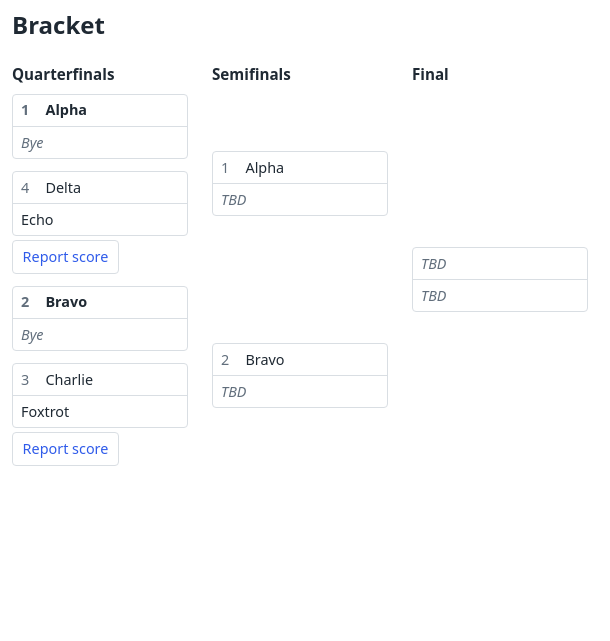
Test: ManageBracket › reports a score with the organizer token and shows the winner advancing
Click the button with aria-label "Report score: Delta vs Echo": (66, 257) 12,240 -> 119,274
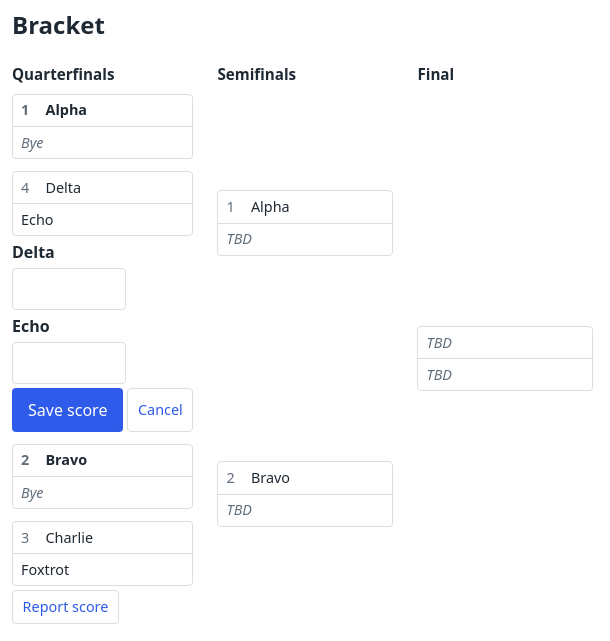
In the number field labelled "Delta": (69, 289) 12,268 -> 126,310, type "1"
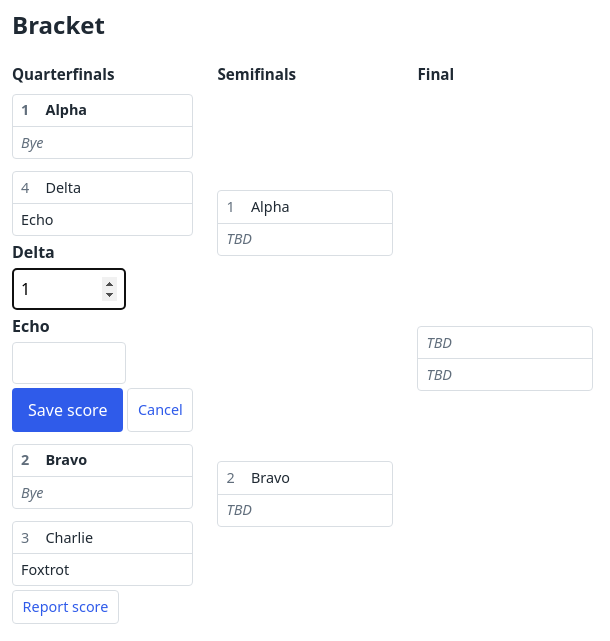
In the number field labelled "Echo": (69, 363) 12,342 -> 126,384, type "3"
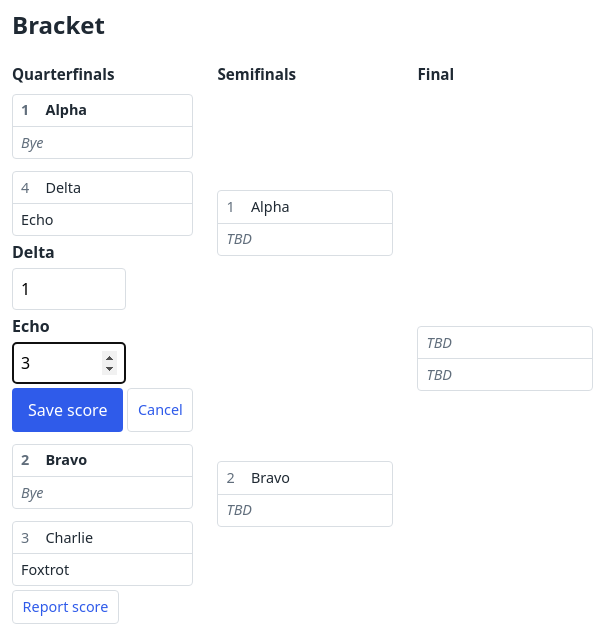
Click the button "Save score": (68, 410) 12,388 -> 123,432
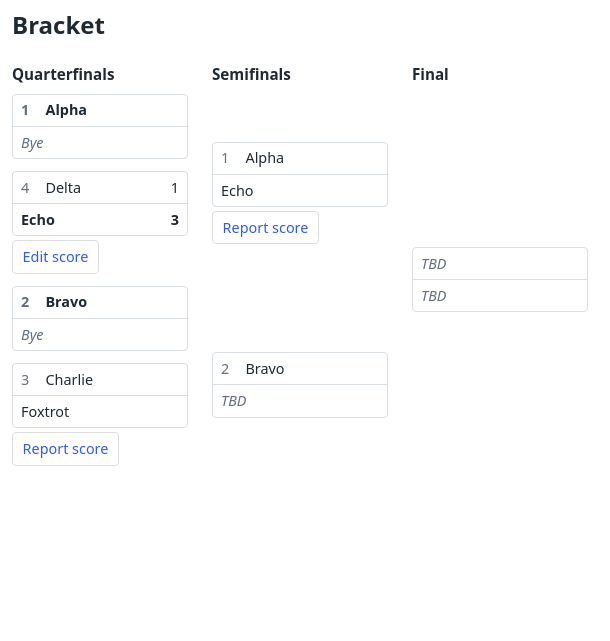
Expected: the button with aria-label "Report score: Alpha vs Echo" is shown, 212,211 -> 319,244
Expected: the button with aria-label "Edit score: Delta vs Echo" is shown, 12,240 -> 99,274
